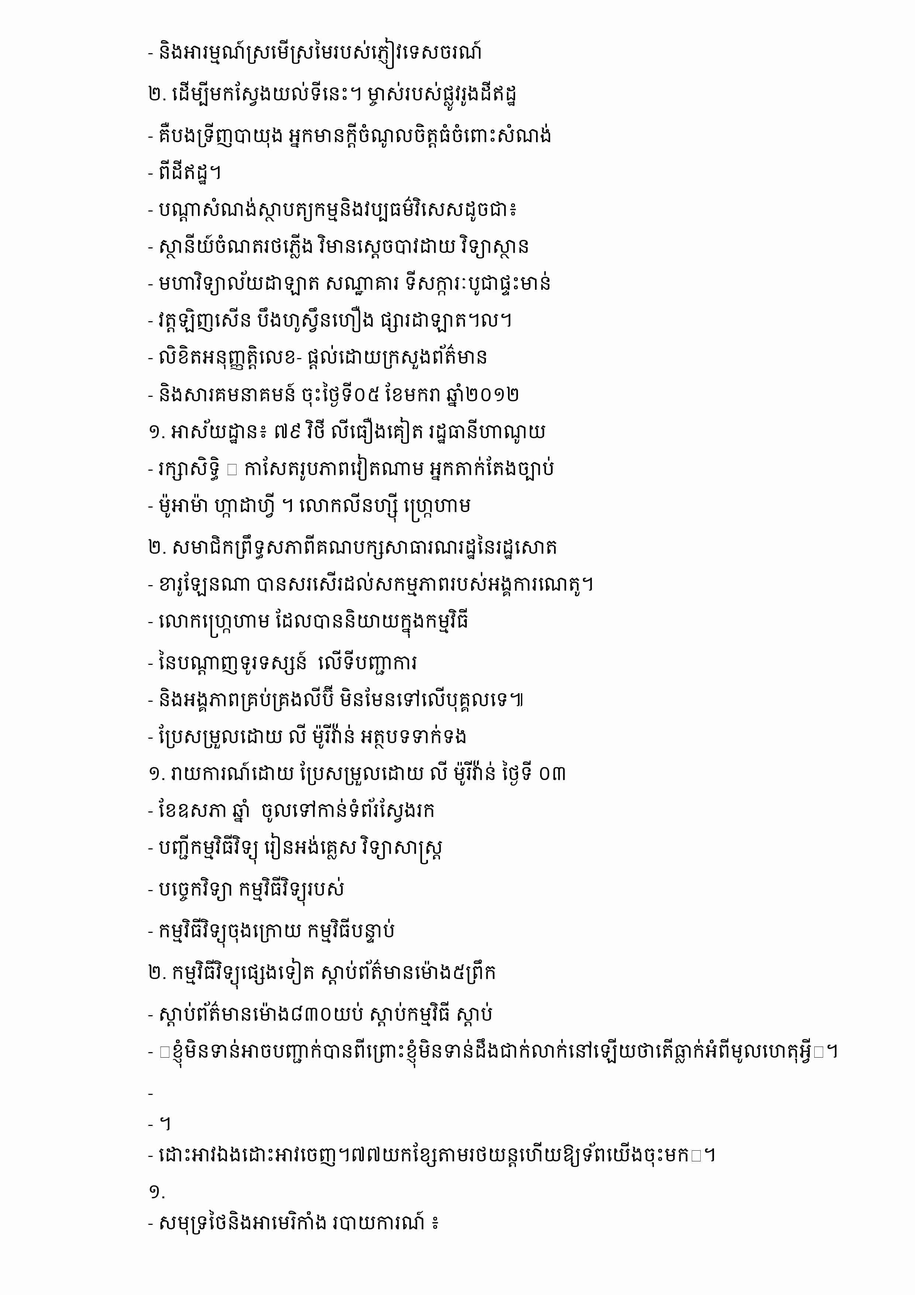text: (148, 1038, 843, 1068), (148, 1142, 721, 1167), (148, 571, 599, 597), (148, 958, 501, 990), (148, 81, 522, 111), (148, 454, 560, 481), (148, 760, 572, 786), (148, 417, 551, 444), (148, 37, 487, 69), (148, 534, 563, 560), (148, 122, 557, 148), (148, 270, 556, 296), (148, 685, 529, 712), (148, 492, 476, 523), (148, 233, 535, 259), (148, 306, 517, 333), (148, 832, 448, 865), (148, 608, 474, 638), (148, 196, 523, 222), (148, 382, 525, 407), (148, 1001, 498, 1027), (148, 344, 493, 370), (148, 723, 472, 749), (148, 797, 440, 823), (148, 918, 400, 948), (148, 1210, 445, 1235), (148, 650, 422, 675), (148, 876, 350, 906), (148, 159, 227, 185), (148, 1117, 177, 1130), (148, 1185, 171, 1198), (148, 1094, 158, 1099)
